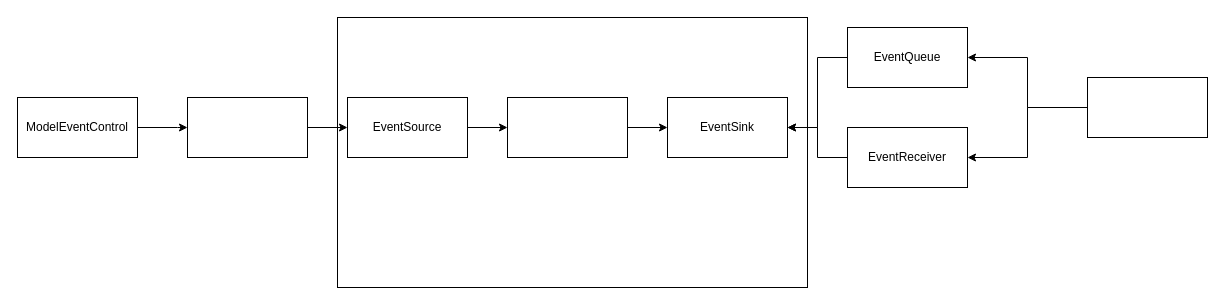
Image size: 1225x305. Some labels were removed from this diagram. The shapes that lost their labels are listed below. From the top down, each one's centre as x and y in pixels, then its label:
At [247,127]: "EventBorder".
At [567,127]: "EventBus".
At [1147,107]: "Model".
